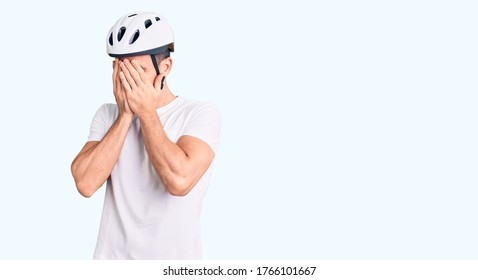helmet: (106, 12, 175, 102)
